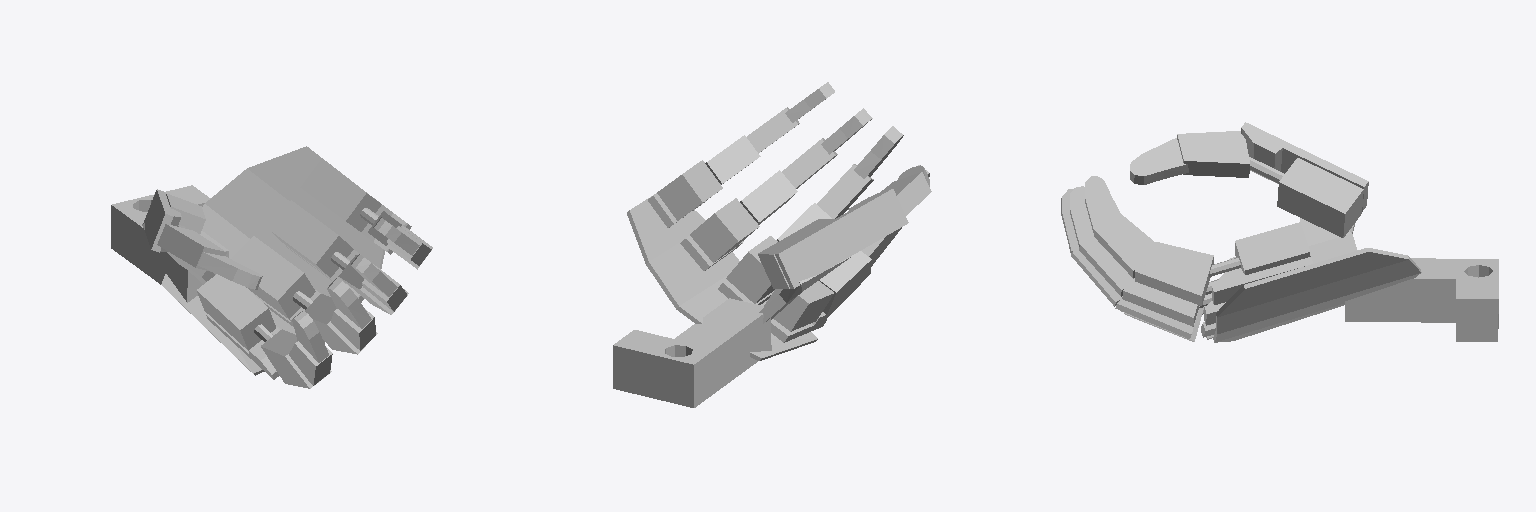
The model's file is R_WAA.obj.
3 renders of one model, left to right at view 1: azimuth 30°, elevation 25°; view 2: azimuth 150°, elevation 25°; view 3: azimuth 270°, elevation 25°, orthographic.
Visible parts, largest first — view 1: L_WAA.3_ShapeIndexedFaceS.085, L_WAA.2_ShapeIndexedFaceS.096, L_WAA.1_ShapeIndexedFaceS.084, L_WAA.4_ShapeIndexedFaceS.086, L_WAA.6_ShapeIndexedFaceS.088, L_WAA.5_ShapeIndexedFaceS.087, L_WAA.7_ShapeIndexedFaceS.089, L_WAA.13_ShapeIndexedFaceS.091, L_WAA.14_ShapeIndexedFaceS.093, L_WAA.8_ShapeIndexedFaceS.090, L_WAA.10_ShapeIndexedFaceS.094, L_WAA.9_ShapeIndexedFaceS.092; view 2: L_WAA.1_ShapeIndexedFaceS.084, L_WAA.3_ShapeIndexedFaceS.085, L_WAA.2_ShapeIndexedFaceS.096, L_WAA.14_ShapeIndexedFaceS.093, L_WAA.4_ShapeIndexedFaceS.086, L_WAA.5_ShapeIndexedFaceS.087, L_WAA.6_ShapeIndexedFaceS.088, L_WAA.7_ShapeIndexedFaceS.089, L_WAA.9_ShapeIndexedFaceS.092, L_WAA.13_ShapeIndexedFaceS.091, L_WAA.12_ShapeIndexedFaceS.097; view 3: L_WAA.2_ShapeIndexedFaceS.096, L_WAA.1_ShapeIndexedFaceS.084, L_WAA.4_ShapeIndexedFaceS.086, L_WAA.9_ShapeIndexedFaceS.092, L_WAA.5_ShapeIndexedFaceS.087, L_WAA.13_ShapeIndexedFaceS.091, L_WAA.6_ShapeIndexedFaceS.088, L_WAA.3_ShapeIndexedFaceS.085, L_WAA.14_ShapeIndexedFaceS.093, L_WAA.7_ShapeIndexedFaceS.089, L_WAA.8_ShapeIndexedFaceS.090, L_WAA.12_ShapeIndexedFaceS.097.
Part boxes in pixels (bbox=[...]): L_WAA.3_ShapeIndexedFaceS.085: bbox=[197, 159, 381, 350]; L_WAA.2_ShapeIndexedFaceS.096: bbox=[161, 146, 384, 375]; L_WAA.1_ShapeIndexedFaceS.084: bbox=[111, 185, 228, 302]; L_WAA.4_ShapeIndexedFaceS.086: bbox=[261, 211, 432, 388]; L_WAA.6_ShapeIndexedFaceS.088: bbox=[292, 217, 419, 362]; L_WAA.5_ShapeIndexedFaceS.087: bbox=[289, 226, 431, 385]; L_WAA.7_ShapeIndexedFaceS.089: bbox=[206, 205, 411, 379]; L_WAA.13_ShapeIndexedFaceS.091: bbox=[157, 224, 226, 271]; L_WAA.14_ShapeIndexedFaceS.093: bbox=[143, 189, 181, 252]; L_WAA.8_ShapeIndexedFaceS.090: bbox=[198, 252, 262, 289]; L_WAA.10_ShapeIndexedFaceS.094: bbox=[254, 208, 378, 341]; L_WAA.9_ShapeIndexedFaceS.092: bbox=[166, 194, 205, 233]; L_WAA.1_ShapeIndexedFaceS.084: bbox=[613, 298, 771, 407]; L_WAA.3_ShapeIndexedFaceS.085: bbox=[657, 160, 833, 331]; L_WAA.2_ShapeIndexedFaceS.096: bbox=[627, 194, 817, 360]; L_WAA.14_ShapeIndexedFaceS.093: bbox=[775, 188, 908, 288]; L_WAA.4_ShapeIndexedFaceS.086: bbox=[705, 135, 871, 317]; L_WAA.5_ShapeIndexedFaceS.087: bbox=[747, 107, 901, 266]; L_WAA.6_ShapeIndexedFaceS.088: bbox=[785, 82, 929, 178]; L_WAA.7_ShapeIndexedFaceS.089: bbox=[648, 193, 826, 342]; L_WAA.9_ShapeIndexedFaceS.092: bbox=[758, 219, 833, 288]; L_WAA.13_ShapeIndexedFaceS.091: bbox=[881, 172, 931, 215]; L_WAA.12_ShapeIndexedFaceS.097: bbox=[759, 255, 852, 323]; L_WAA.2_ShapeIndexedFaceS.096: bbox=[1213, 248, 1421, 342]; L_WAA.1_ShapeIndexedFaceS.084: bbox=[1345, 258, 1498, 341]; L_WAA.4_ShapeIndexedFaceS.086: bbox=[1115, 242, 1213, 341]; L_WAA.9_ShapeIndexedFaceS.092: bbox=[1277, 158, 1363, 237]; L_WAA.5_ShapeIndexedFaceS.087: bbox=[1071, 212, 1155, 311]; L_WAA.13_ShapeIndexedFaceS.091: bbox=[1177, 131, 1249, 177]; L_WAA.6_ShapeIndexedFaceS.088: bbox=[1061, 176, 1119, 252]; L_WAA.3_ShapeIndexedFaceS.085: bbox=[1229, 222, 1310, 274]; L_WAA.14_ShapeIndexedFaceS.093: bbox=[1241, 122, 1368, 211]; L_WAA.7_ShapeIndexedFaceS.089: bbox=[1201, 257, 1312, 339]; L_WAA.8_ShapeIndexedFaceS.090: bbox=[1130, 138, 1188, 184]; L_WAA.12_ShapeIndexedFaceS.097: bbox=[1300, 218, 1357, 263].
Size of the model in its own units: 4.15 by 3.13 by 6.4.